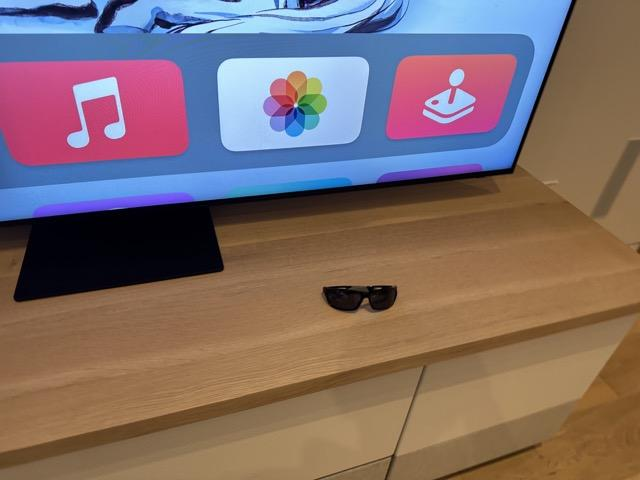Sunglasses: (322, 284, 399, 313)
